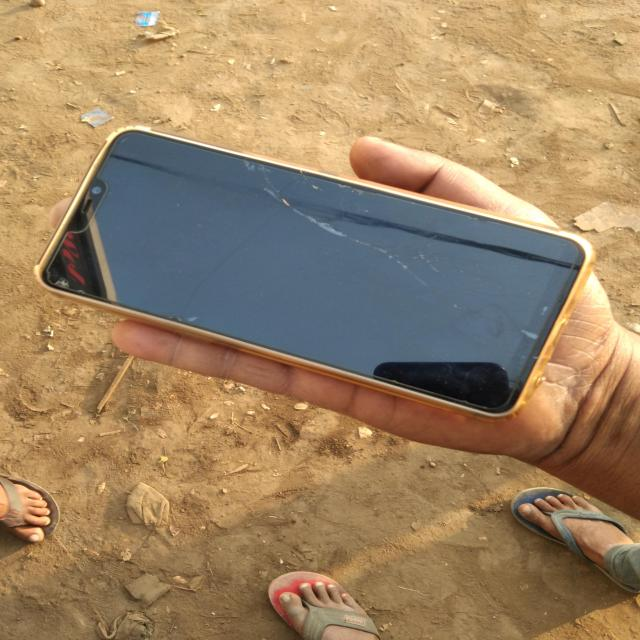mobile: (0, 109, 611, 401)
